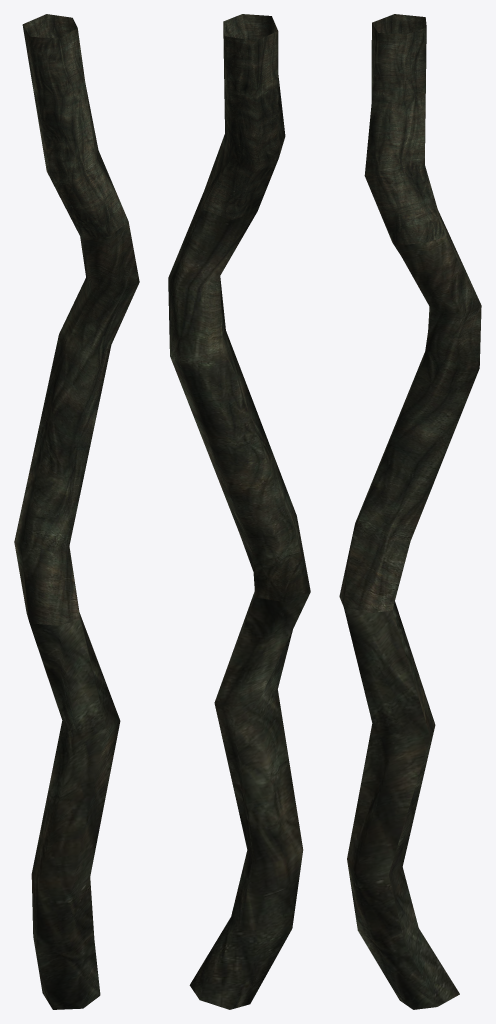
Rendered from Tree1.fbx.
3 views of the same model, side by side, from view 1: azimuth 30°, elevation 25°; view 2: azimuth 150°, elevation 25°; view 3: azimuth 330°, elevation 25° (orthographic).
Visible parts, largest first — view 1: Tree1; view 2: Tree1; view 3: Tree1.
Boxes of the visible parts, bbox=[...] form: Tree1: bbox=[14, 14, 139, 1009]; Tree1: bbox=[168, 14, 310, 1009]; Tree1: bbox=[339, 14, 481, 1009].
Size of the model in its own units: 4.16 by 32.99 by 3.25.
